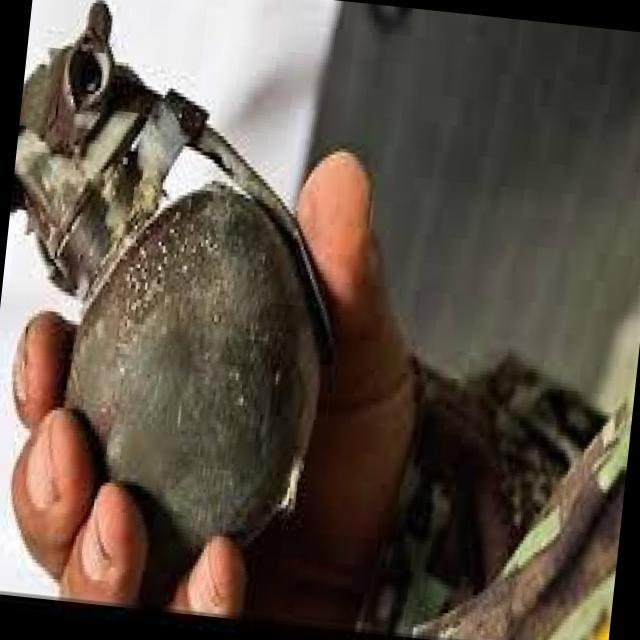grenade: (0, 0, 370, 576)
